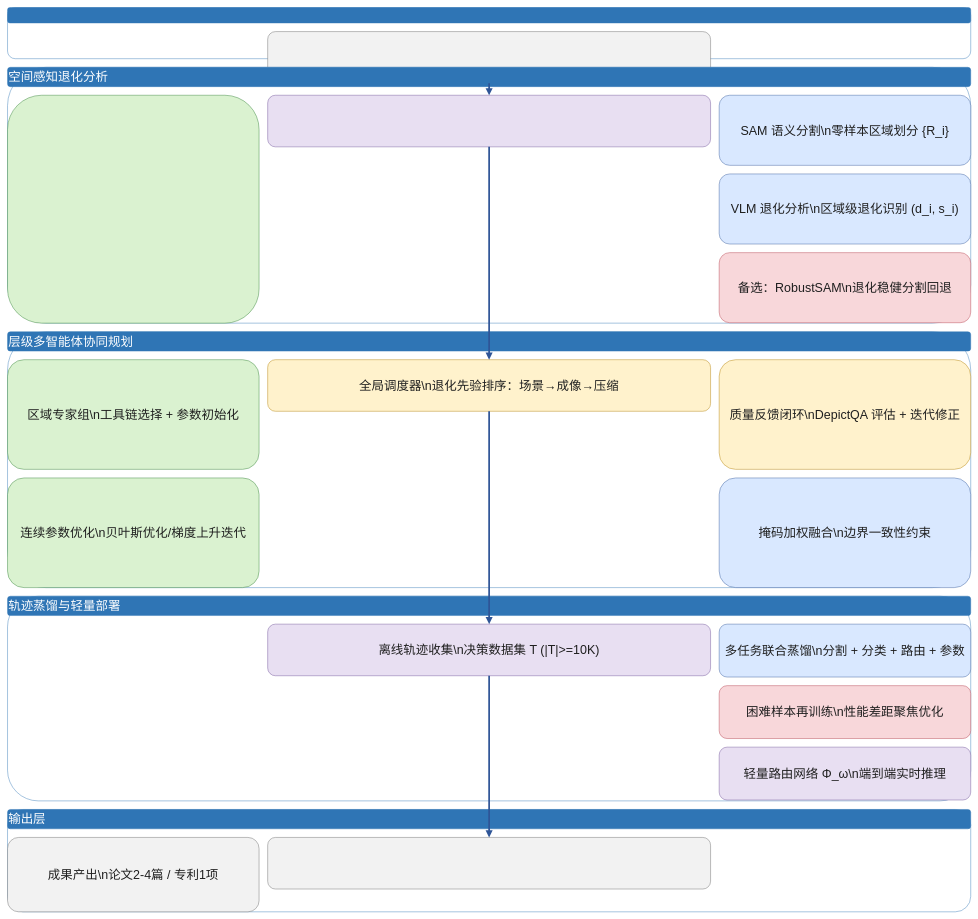
Some shapes in this 978 by 919 pixel diagram are drawn without their labels. The shapes that lost their labels are listed below. From the top down, each one's box as (x1, y1, x2, y2) in pixels, then its label:
(7, 7, 971, 23): 输入层
(267, 31, 711, 83): 复杂退化图像输入\n（噪声/模糊/雾霾/雨线/压缩伪影）
(267, 95, 711, 147): 空间退化图 M\n{(R_i, d_i, s_i, h_i)}
(7, 95, 259, 323): 空间上下文聚合\n图注意力邻域修正
(267, 837, 711, 889): 高质量恢复图像\n区域差异化精细恢复
